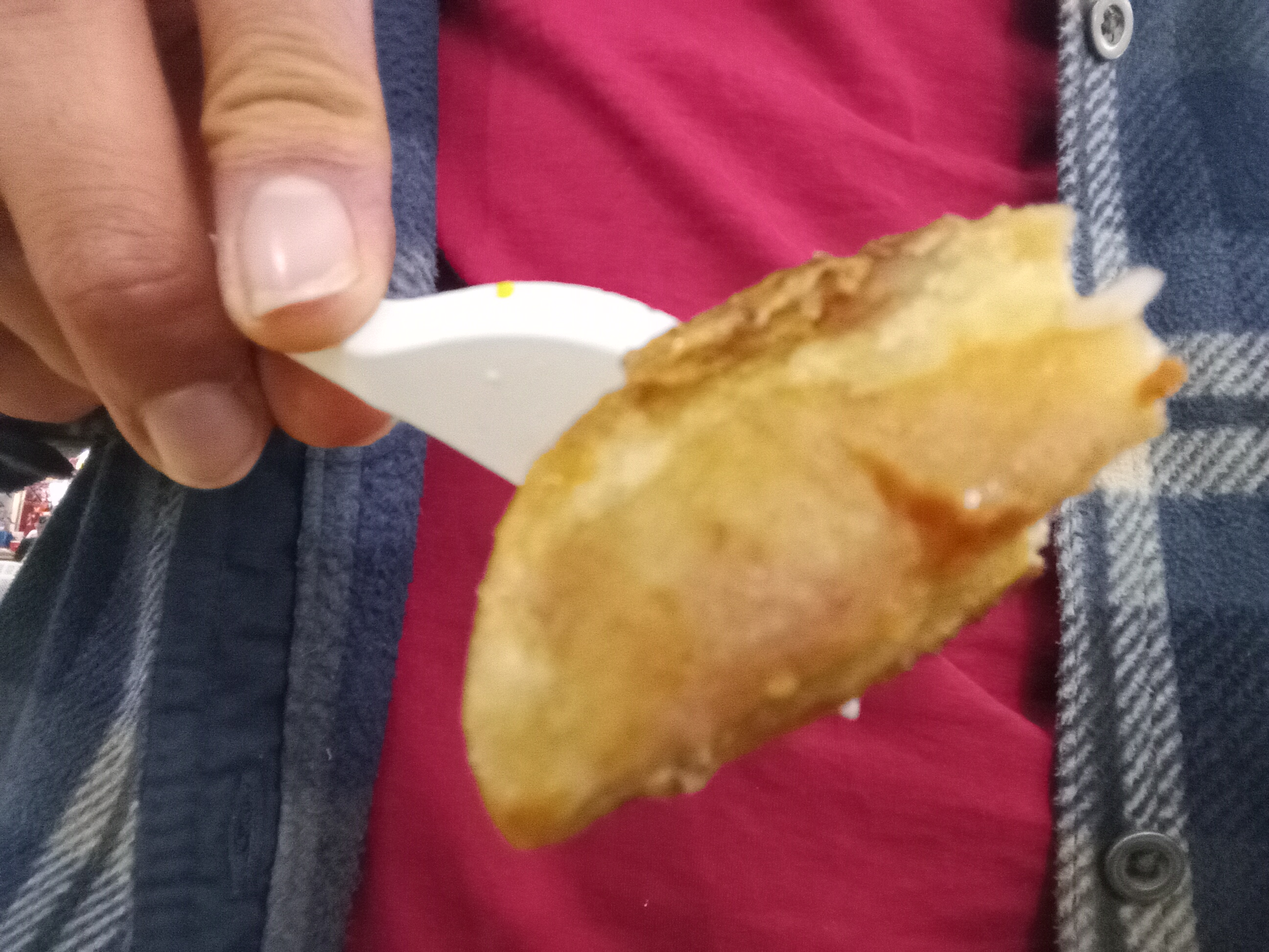Organico: (463, 200, 1188, 854)
